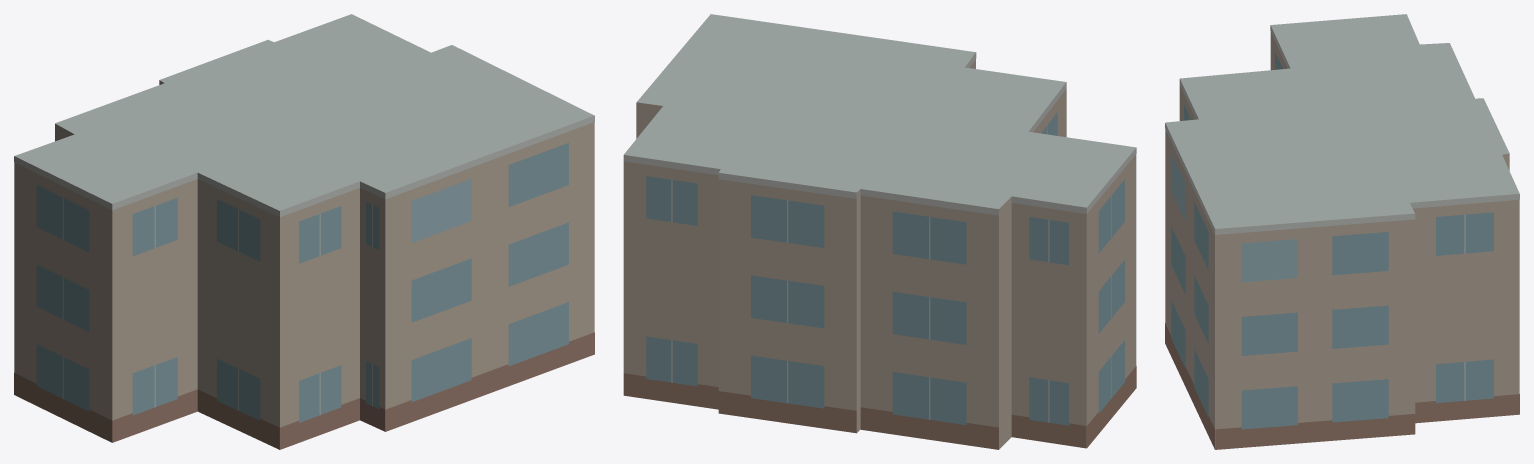
File: survey-upis-32617232.glb
3 renders of one model, left to right at view 1: azimuth 30°, elevation 25°; view 2: azimuth 150°, elevation 25°; view 3: azimuth 270°, elevation 25°, orthographic. The views are drawn at different scales.
Parts seen in each view (by area): view 1: survey-upis-32617232.tmp; view 2: survey-upis-32617232.tmp; view 3: survey-upis-32617232.tmp.
Part boxes in pixels (x1,y1,x2,y2): survey-upis-32617232.tmp: (14,14,594,449); survey-upis-32617232.tmp: (623,14,1136,449); survey-upis-32617232.tmp: (1165,14,1519,449).
Bounding box in the file's own units: 19.13 × 9.15 × 13.33.
